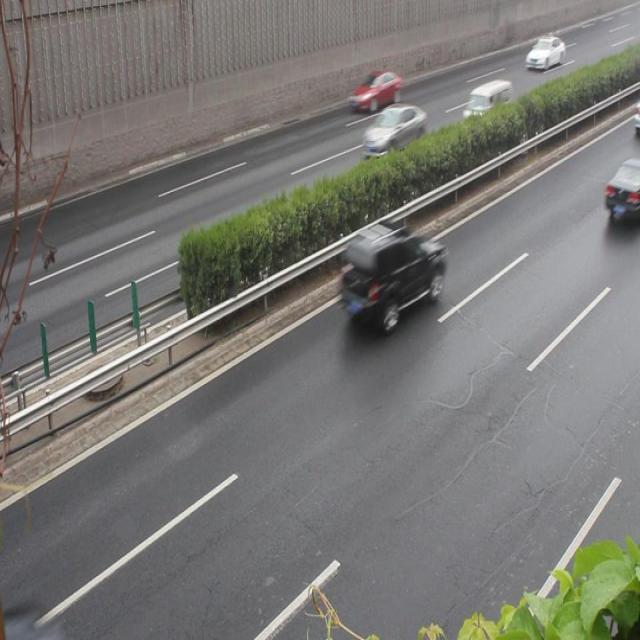car: (338, 224, 444, 328), (364, 105, 426, 160), (603, 159, 640, 233), (349, 69, 402, 115)
truck: (458, 80, 515, 145)
